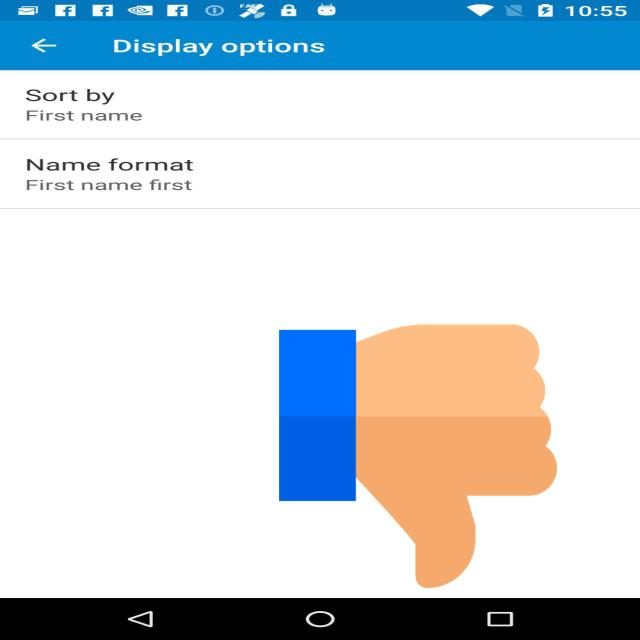obstruction: (279, 318, 557, 595)
